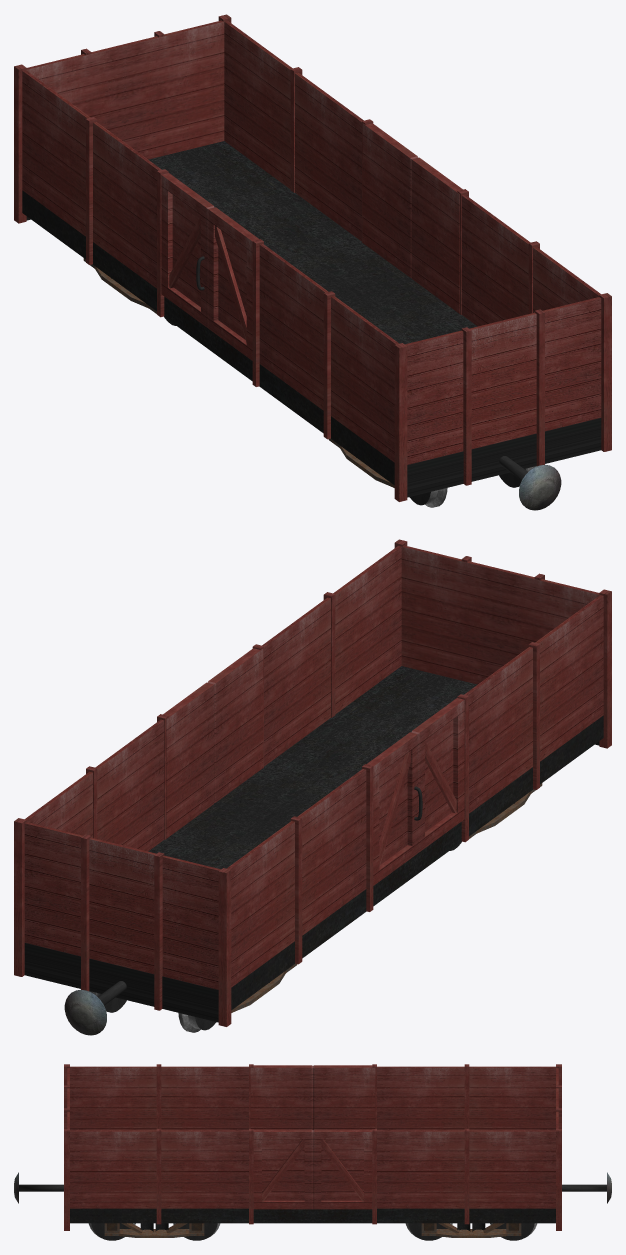
The model's file is mpsb_open_wagon.obj.
The picture shows the model from 3 angles, top to bottom: view 1: azimuth 30°, elevation 25°; view 2: azimuth 150°, elevation 25°; view 3: azimuth 270°, elevation 25°; orthographic projection. The views are drawn at different scales.
Parts seen in each view (by area): view 1: Bottom, Bogeys; view 2: Bottom, Bogeys; view 3: Bottom, Bogeys.
Boxes of the visible parts, <box> form: Bottom: <box>14,14,611,510</box>; Bogeys: <box>83,258,536,507</box>; Bottom: <box>14,539,611,1035</box>; Bogeys: <box>89,783,542,1032</box>; Bottom: <box>14,1064,611,1230</box>; Bogeys: <box>88,1223,537,1240</box>.
Bounding box in the file's own units: 1.76 × 1.53 × 6.42.
1 material, 1 textured.
